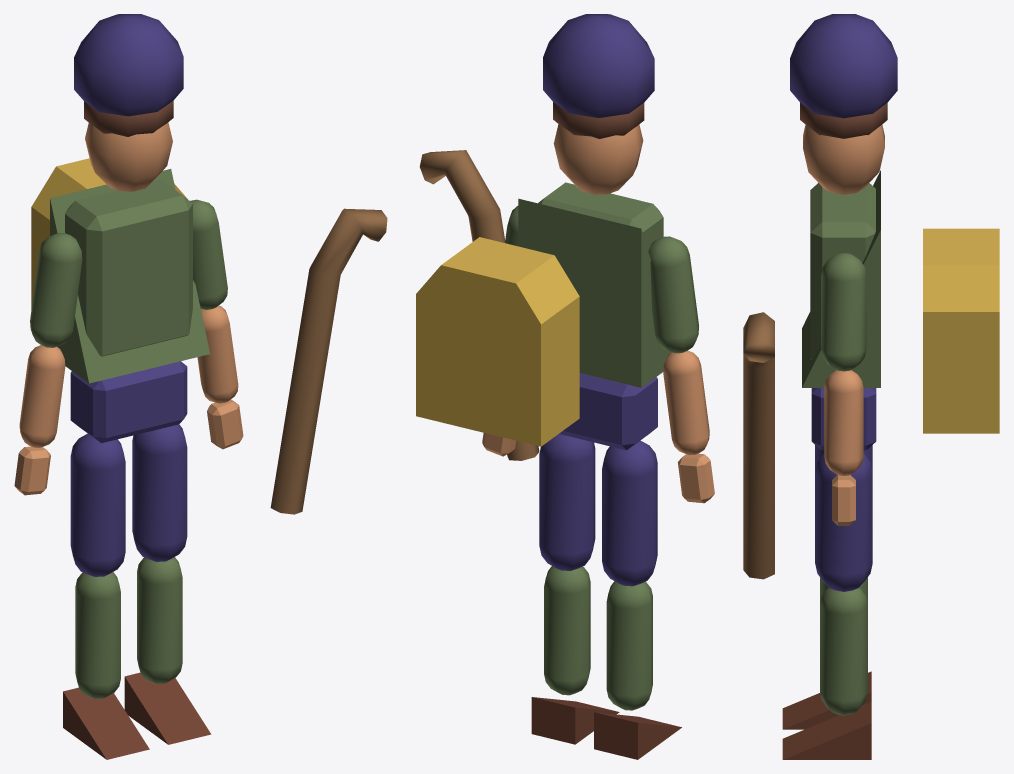
The model's file is adventurer.rustic.glb.
The picture shows the model from 3 angles, left to right: view 1: azimuth 30°, elevation 25°; view 2: azimuth 150°, elevation 25°; view 3: azimuth 270°, elevation 25°; orthographic projection.
Visible parts, largest first — view 1: torso, accessory.main-hand, accessory.head, thigh.left, pelvis, thigh.right, tunic, shin.left, shin.right, upper-arm.left, head, foot.right (+8 smaller); view 2: accessory.back, tunic, accessory.head, thigh.left, thigh.right, shin.left, shin.right, pelvis, upper-arm.left, head, accessory.main-hand, forearm.left (+6 smaller); view 3: accessory.back, accessory.head, accessory.main-hand, shin.right, thigh.right, torso, upper-arm.right, head, tunic, forearm.right, foot.right, hair (+3 smaller).
Boxes of the visible parts, left/top/right/bottom form: torso: left=65, top=179, right=192, bottom=356; accessory.main-hand: left=270, top=208, right=387, bottom=514; accessory.head: left=74, top=14, right=183, bottom=116; thigh.left: left=70, top=433, right=125, bottom=576; pelvis: left=70, top=361, right=187, bottom=443; thigh.right: left=132, top=424, right=187, bottom=561; tunic: left=50, top=169, right=209, bottom=383; shin.left: left=75, top=572, right=120, bottom=699; shin.right: left=137, top=557, right=182, bottom=684; upper-arm.left: left=30, top=233, right=82, bottom=347; head: left=85, top=122, right=172, bottom=191; foot.right: left=124, top=672, right=211, bottom=744; accessory.back: left=416, top=237, right=579, bottom=446; tunic: left=518, top=198, right=671, bottom=387; accessory.head: left=543, top=14, right=654, bottom=117; thigh.left: left=602, top=440, right=657, bottom=586; thigh.right: left=539, top=434, right=595, bottom=570; shin.left: left=606, top=581, right=652, bottom=710; shin.right: left=544, top=566, right=590, bottom=695; pelvis: left=559, top=373, right=657, bottom=450; upper-arm.left: left=648, top=236, right=698, bottom=353; head: left=553, top=124, right=643, bottom=194; accessory.main-hand: left=419, top=150, right=539, bottom=460; forearm.left: left=663, top=350, right=709, bottom=455; accessory.back: left=923, top=228, right=999, bottom=433; accessory.head: left=790, top=14, right=897, bottom=118; accessory.main-hand: left=743, top=312, right=774, bottom=579; shin.right: left=820, top=588, right=867, bottom=715; thigh.right: left=815, top=453, right=872, bottom=591; torso: left=810, top=183, right=875, bottom=359; upper-arm.right: left=821, top=252, right=866, bottom=371; head: left=803, top=124, right=884, bottom=194; tunic: left=802, top=170, right=880, bottom=387; forearm.right: left=824, top=370, right=863, bottom=475; foot.right: left=782, top=702, right=871, bottom=759; hair: left=800, top=102, right=887, bottom=138.
Size of the model in its own units: 1.58 by 3.29 by 1.07.
